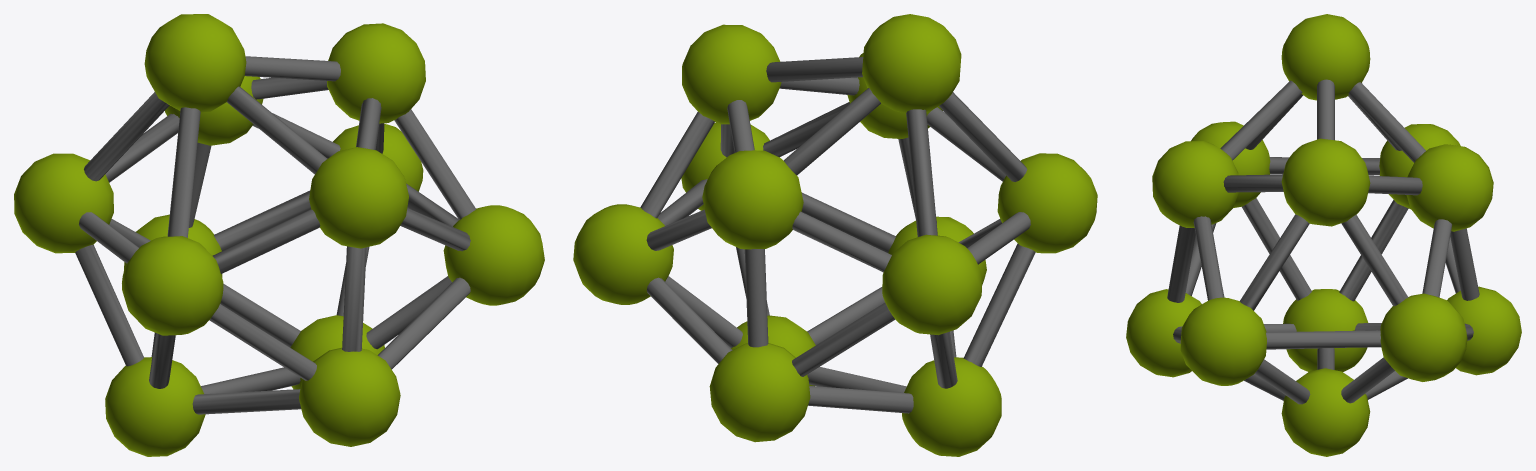
File: VRehaDummyObject.fbx
The picture shows the model from 3 angles, left to right: view 1: azimuth 30°, elevation 25°; view 2: azimuth 150°, elevation 25°; view 3: azimuth 270°, elevation 25°; orthographic projection. The views are drawn at different scales.
Parts seen in each view (by area): view 1: Spheres, Lines; view 2: Spheres, Lines; view 3: Spheres, Lines.
Boxes of the visible parts, box(x1,y1,x2,y2) form: Spheres: box(14, 14, 544, 456); Lines: box(75, 56, 475, 414); Spheres: box(573, 14, 1097, 456); Lines: box(640, 57, 1035, 413); Spheres: box(1126, 14, 1521, 456); Lines: box(1167, 79, 1479, 404).
Size of what is drawn, in the model's own units: 11.29 by 11.37 by 10.92.
